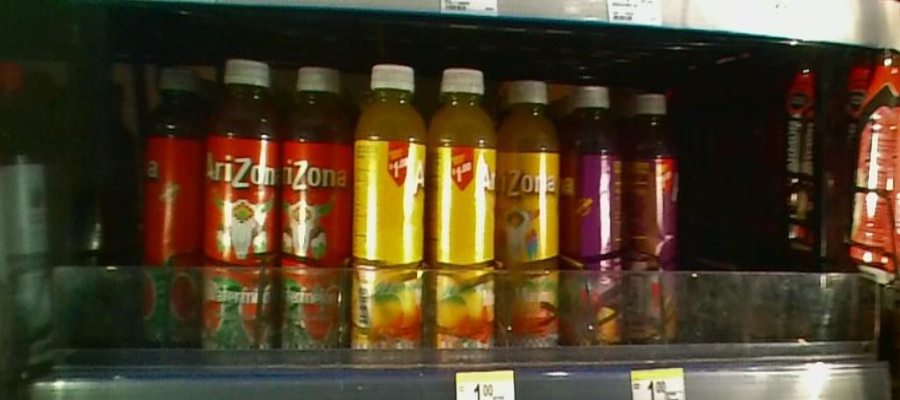bottle: (354, 42, 428, 398), (277, 44, 351, 389), (429, 59, 498, 400), (205, 52, 275, 383), (499, 58, 563, 400), (133, 48, 201, 361), (622, 74, 681, 400), (564, 71, 622, 400)
